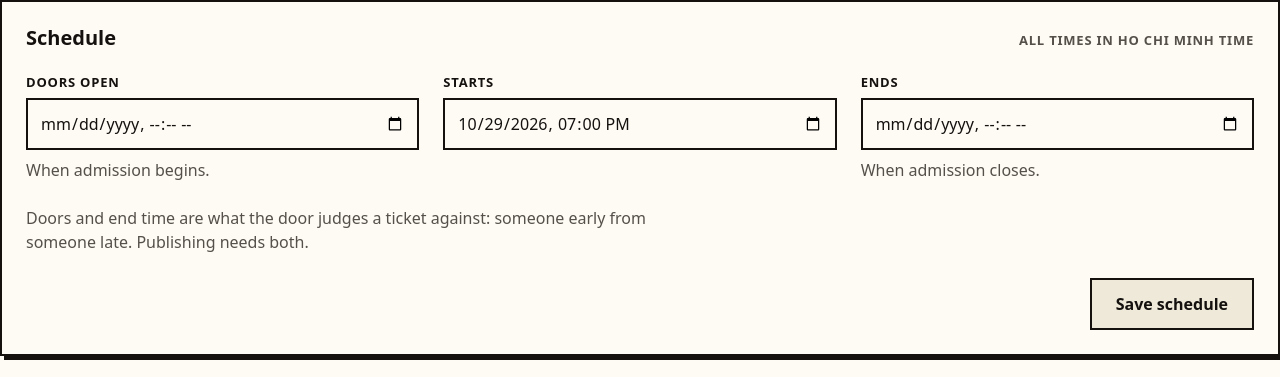
Test case: the schedule form › puts each complaint beside its own input
In the field labelled "Doors open When admission begins.": (223, 124) [26,98,419,150], type "2026-10-29T21:00"
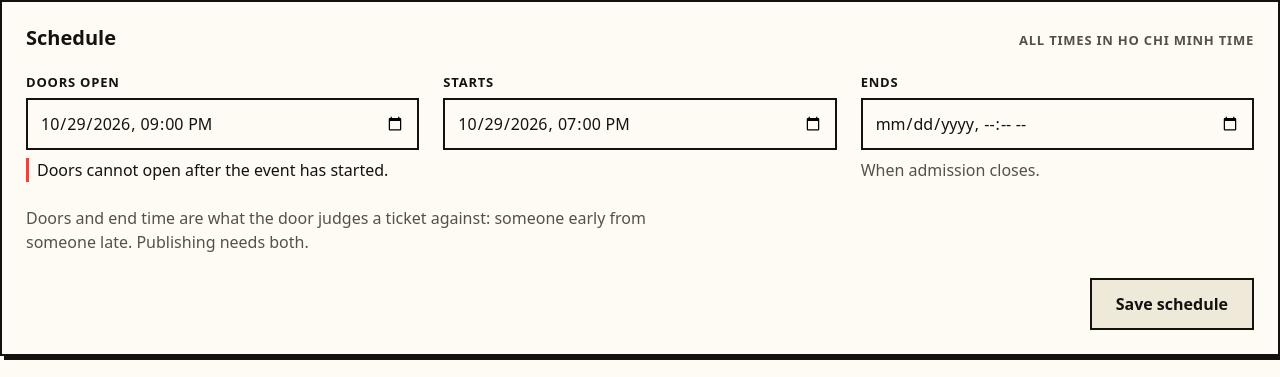
In the field labelled "Ends When admission closes.": (1057, 124) [861,98,1254,150], type "2026-10-29T17:00"
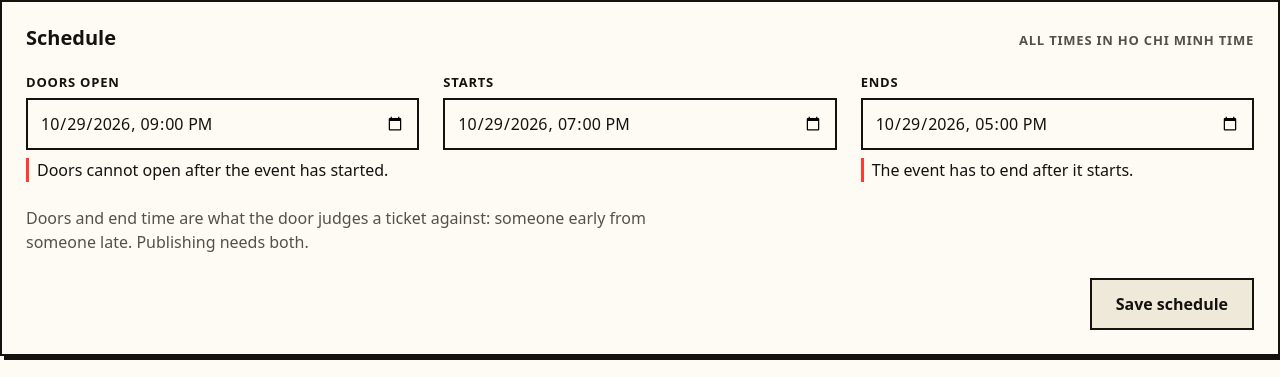
Result: the message "Doors cannot open after the event has started." is shown at [26,158,419,182]
Result: the message "The event has to end after it starts." is shown at [861,158,1254,182]
